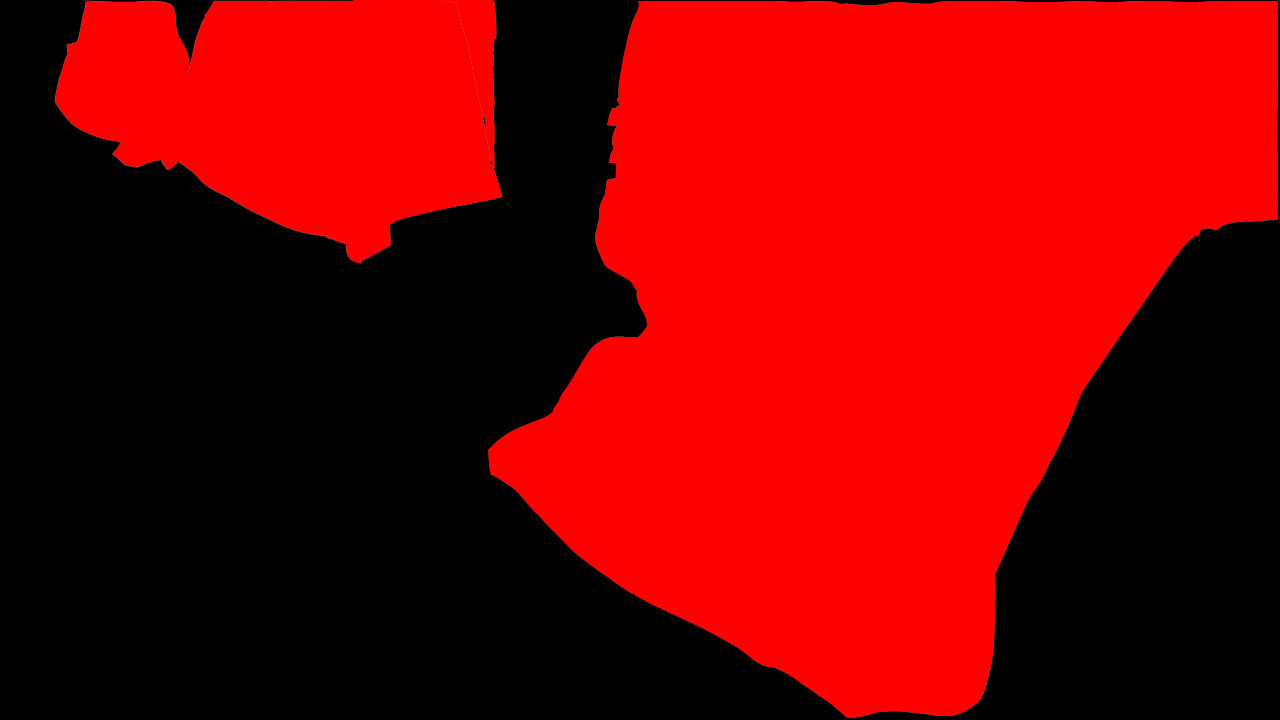uniforme_ifmt: (494, 8, 1279, 720), (52, 1, 506, 407)
